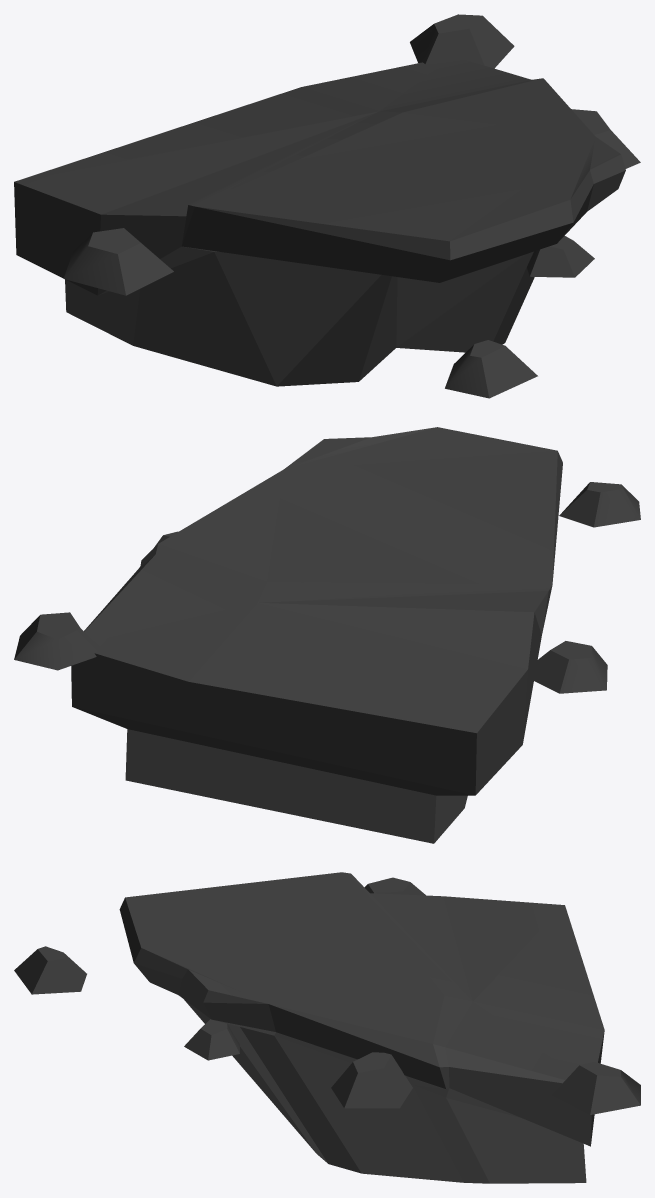
The model's file is SM_Env_RoadPiece_Damaged_10.glb.
3 views of the same model, one above another, from view 1: azimuth 30°, elevation 25°; view 2: azimuth 150°, elevation 25°; view 3: azimuth 270°, elevation 25° (orthographic). The views are drawn at different scales.
Visible parts, largest first — view 1: SM_Env_RoadPiece_Damaged_10; view 2: SM_Env_RoadPiece_Damaged_10; view 3: SM_Env_RoadPiece_Damaged_10.
Boxes of the visible parts, x1=… form: SM_Env_RoadPiece_Damaged_10: x1=14, y1=14, x2=640, y2=398; SM_Env_RoadPiece_Damaged_10: x1=14, y1=427, x2=640, y2=843; SM_Env_RoadPiece_Damaged_10: x1=14, y1=872, x2=640, y2=1183.
Size of the model in its own units: 1.73 by 0.6926 by 2.
1 material, 1 textured.
